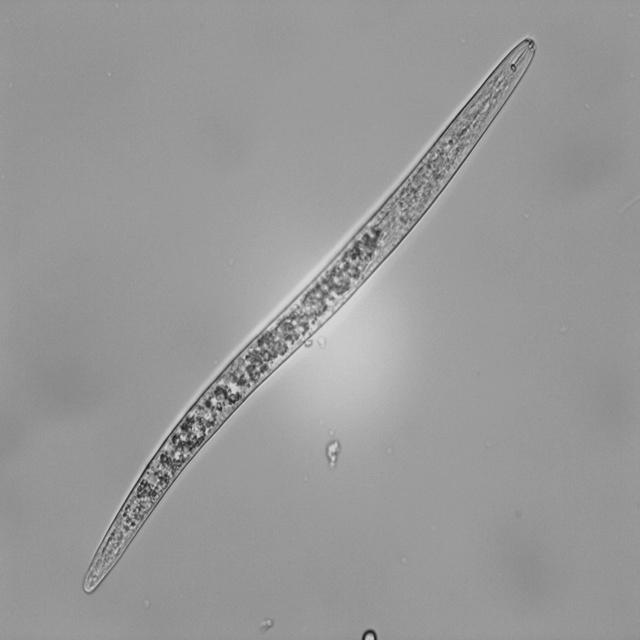Pratylenchus: (77, 35, 542, 606)
